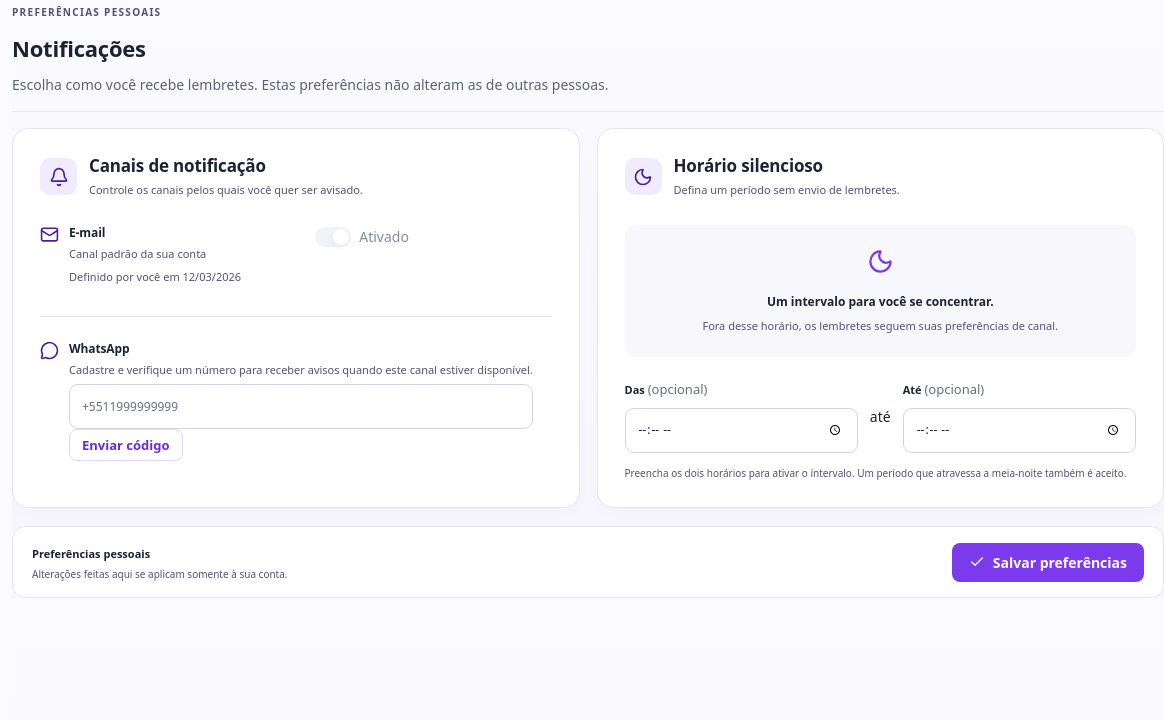
Test: NotificationPreferences (A18, Block 8) › shows a distinct 'unknown outcome' notice (never claiming failure) when the save's result is genuinely unknown
Check: the switch labelled "Ativado" is shown, box [315,225,409,249]
Click the button "Salvar preferências" at (1048, 562), box [952,543,1144,582]
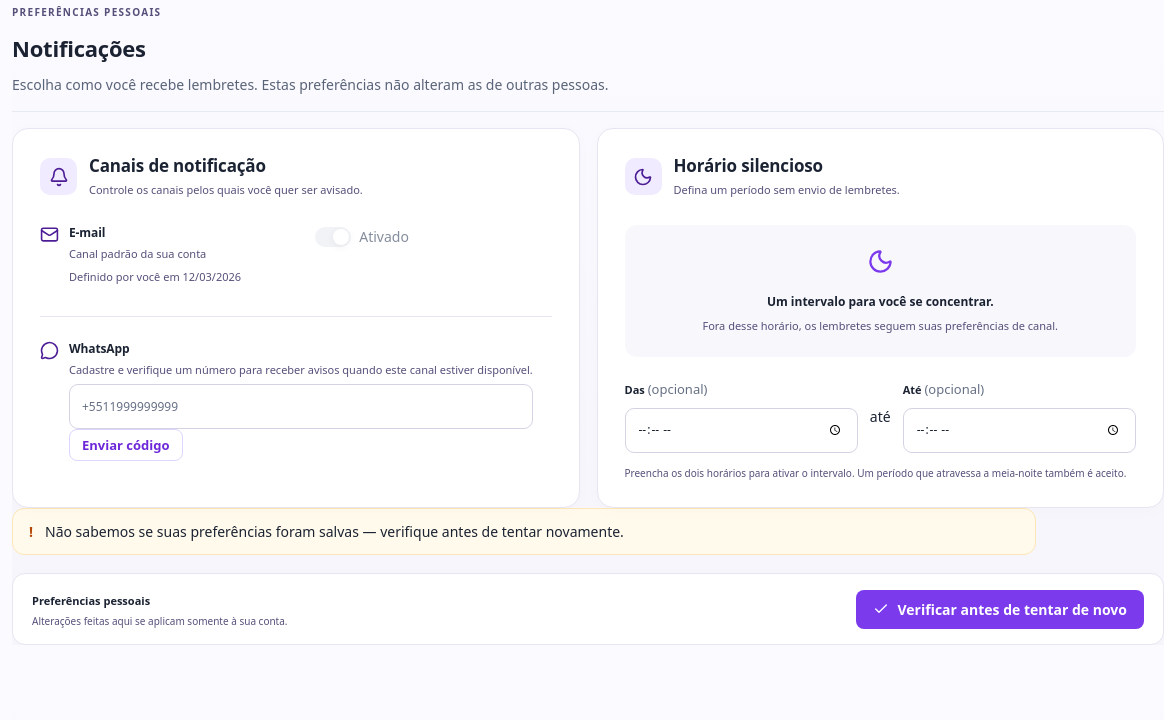
Check: the text "Não sabemos se suas preferências foram salvas" is shown, box [45,522,624,541]
